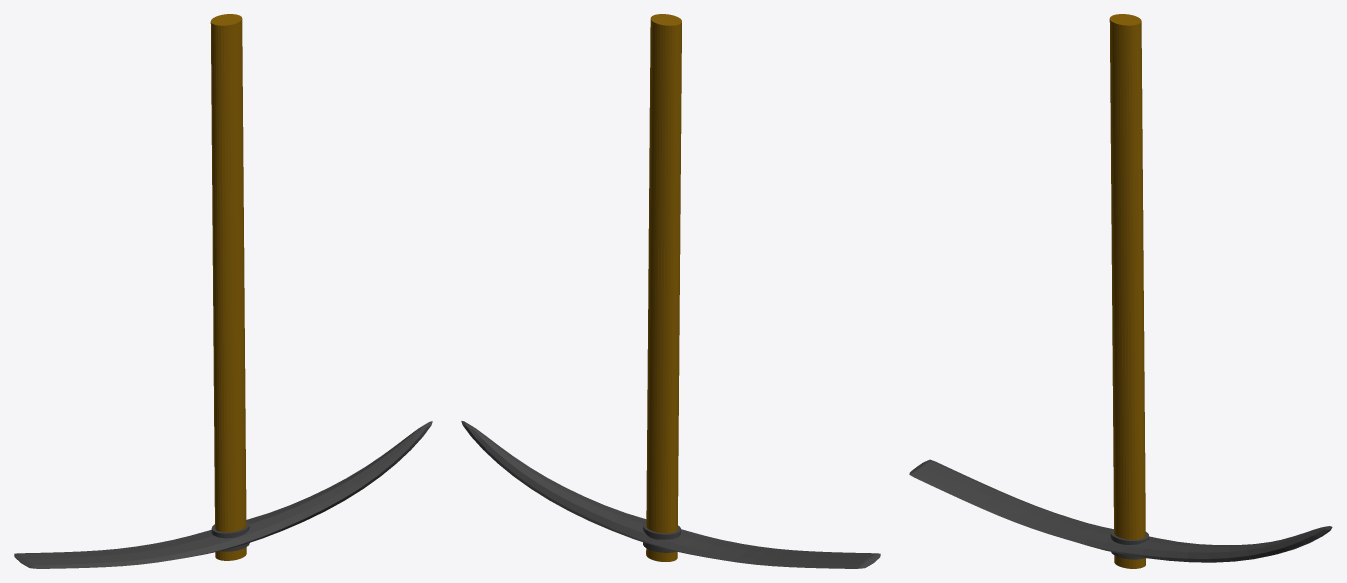
Rendered from pioche.fbx.
3 renders of one model, left to right at view 1: azimuth 30°, elevation 25°; view 2: azimuth 150°, elevation 25°; view 3: azimuth 330°, elevation 25°, orthographic.
Visible parts, largest first — view 1: Lame.001; view 2: Lame.001; view 3: Lame.001.
Part boxes in pixels (box(x1,y1,x2,y2)): Lame.001: box(14, 14, 432, 568); Lame.001: box(461, 14, 880, 568); Lame.001: box(909, 14, 1332, 568).
Bounding box in the file's own units: 137 × 170 × 12.6.
